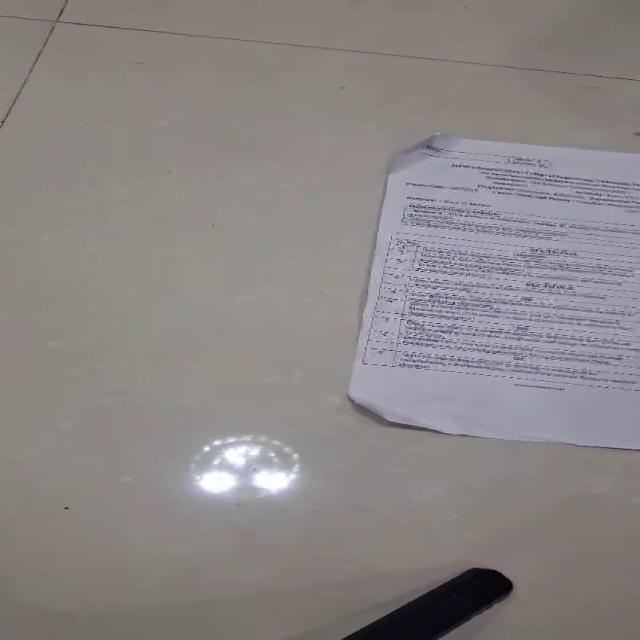paper: (346, 131, 638, 450)
